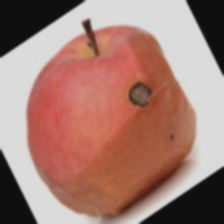apple: (6, 60, 189, 200)
